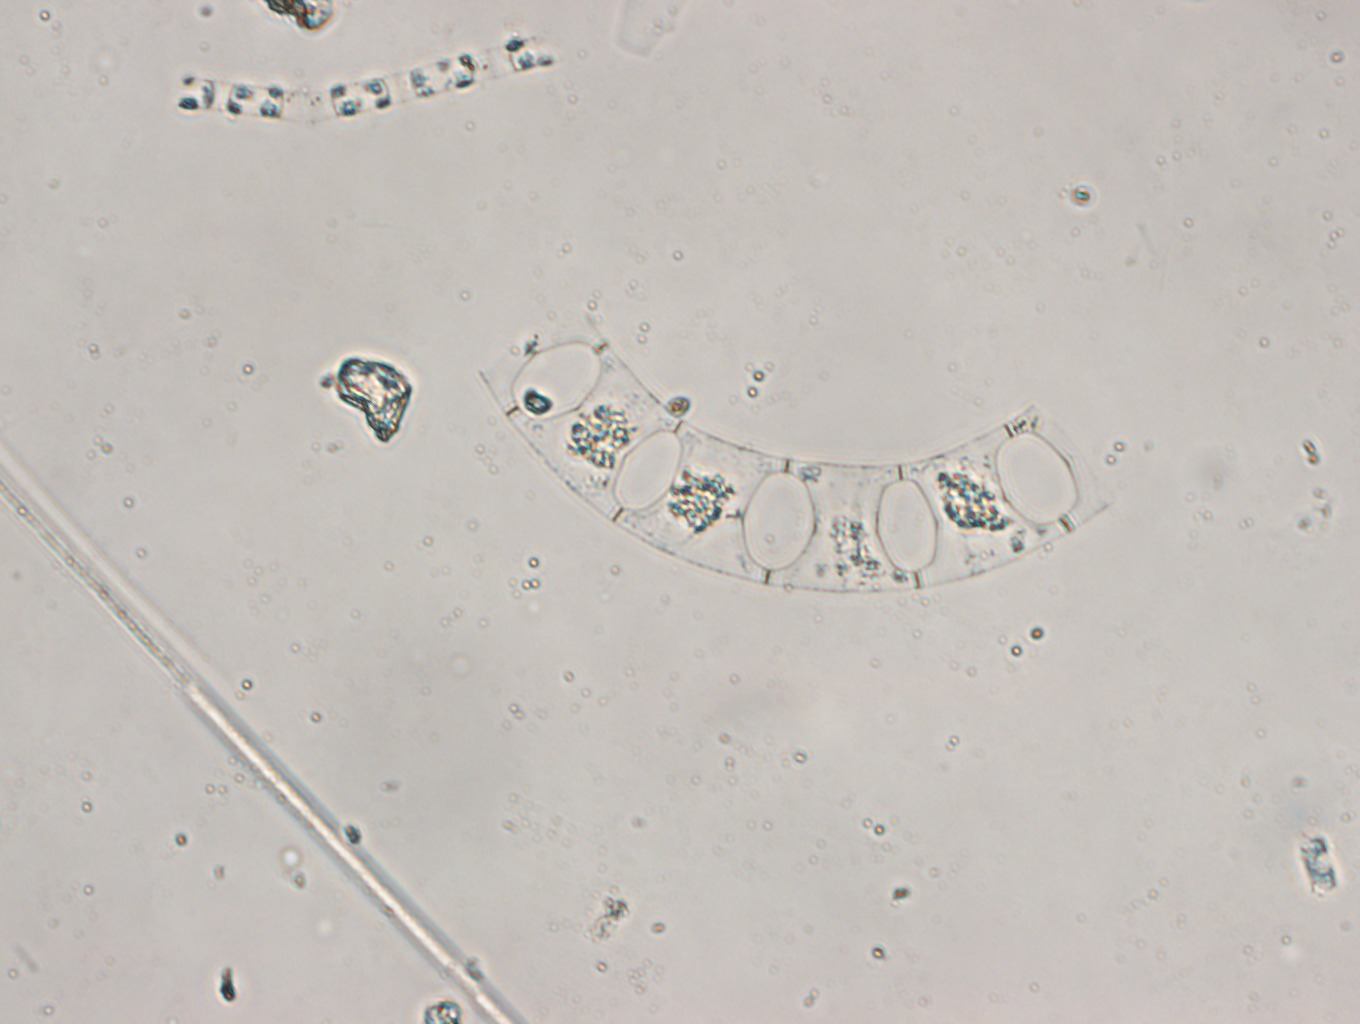eucampia: (477, 309, 1126, 599)
skeletonema: (171, 31, 552, 128)
